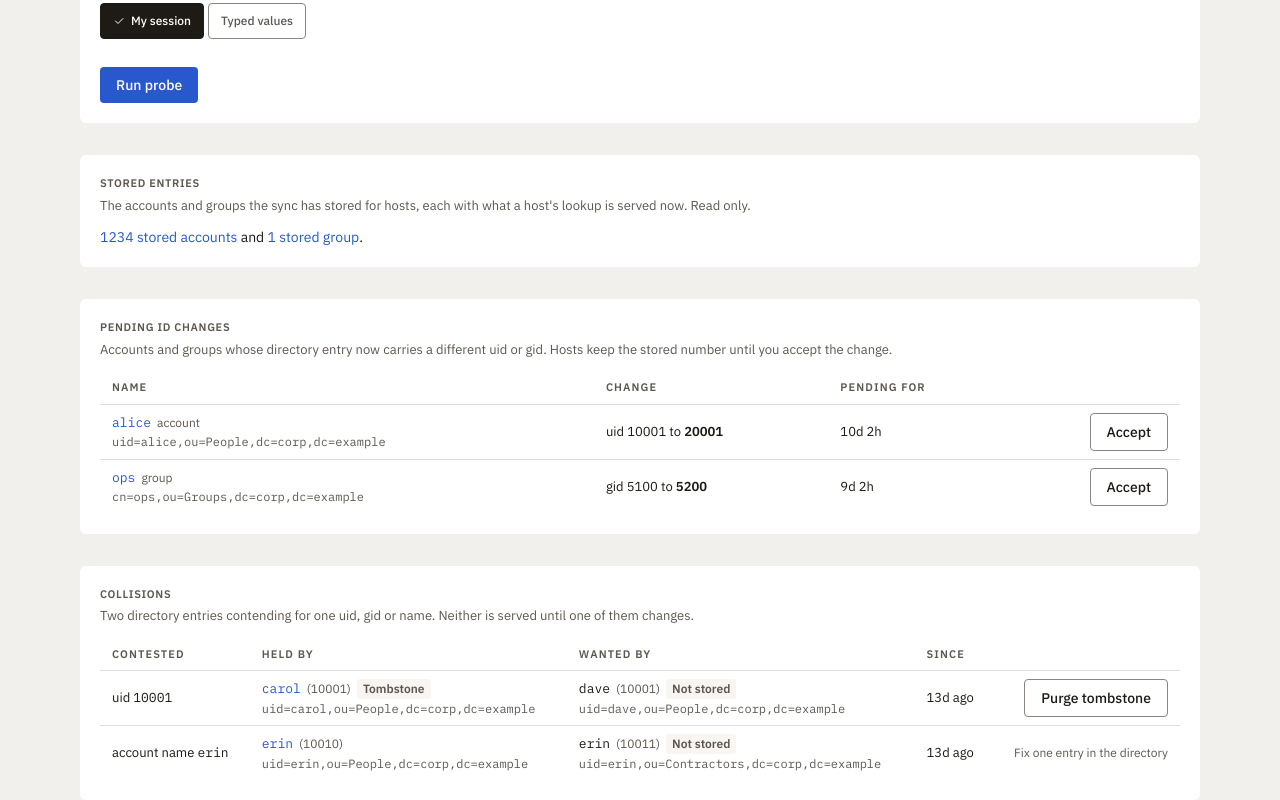
it: Directory page NSS panels › pending id changes › should show a 409 on the row it came from
(page scrolled)
Click the button with test id "nss-pending-accept": (1129, 432) x1=1090 y1=413 x2=1168 y2=451
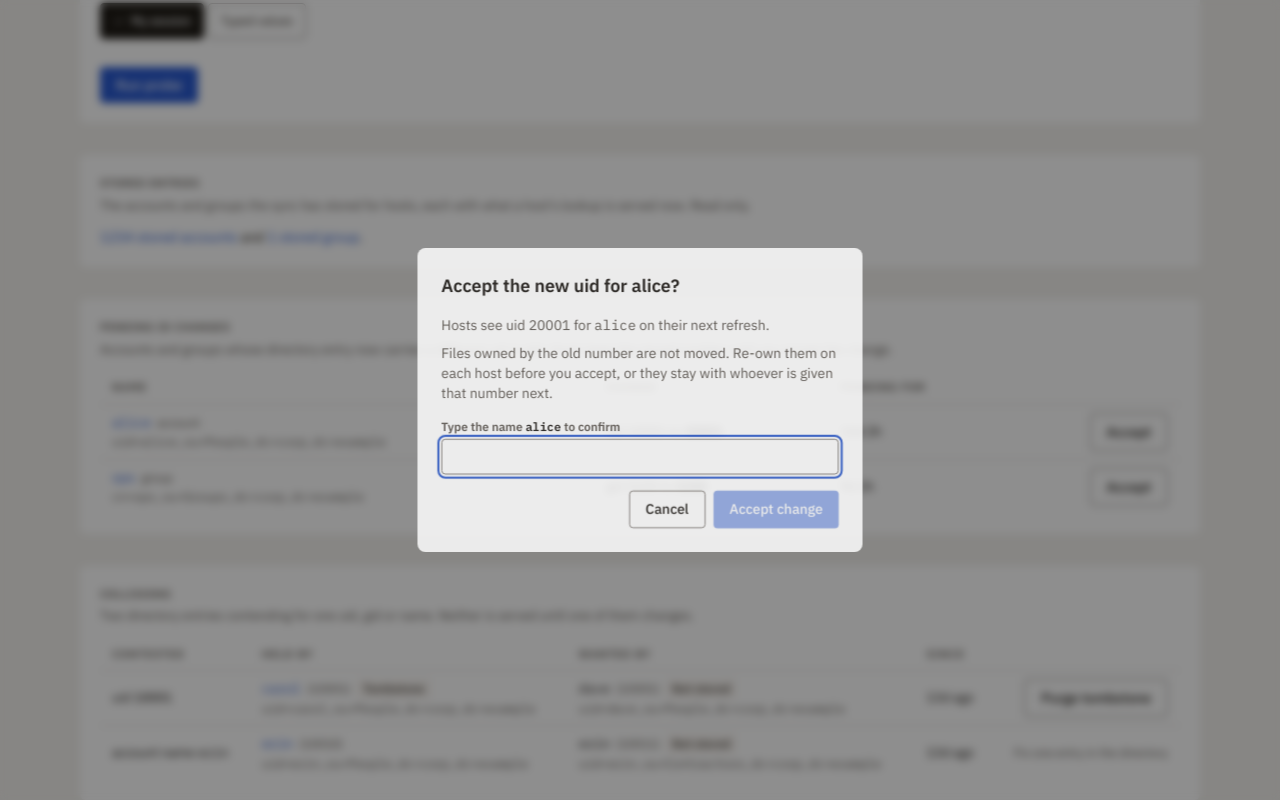
In the field with test id "nss-accept-typed": (640, 457) x1=440 y1=439 x2=840 y2=475, type "alice"
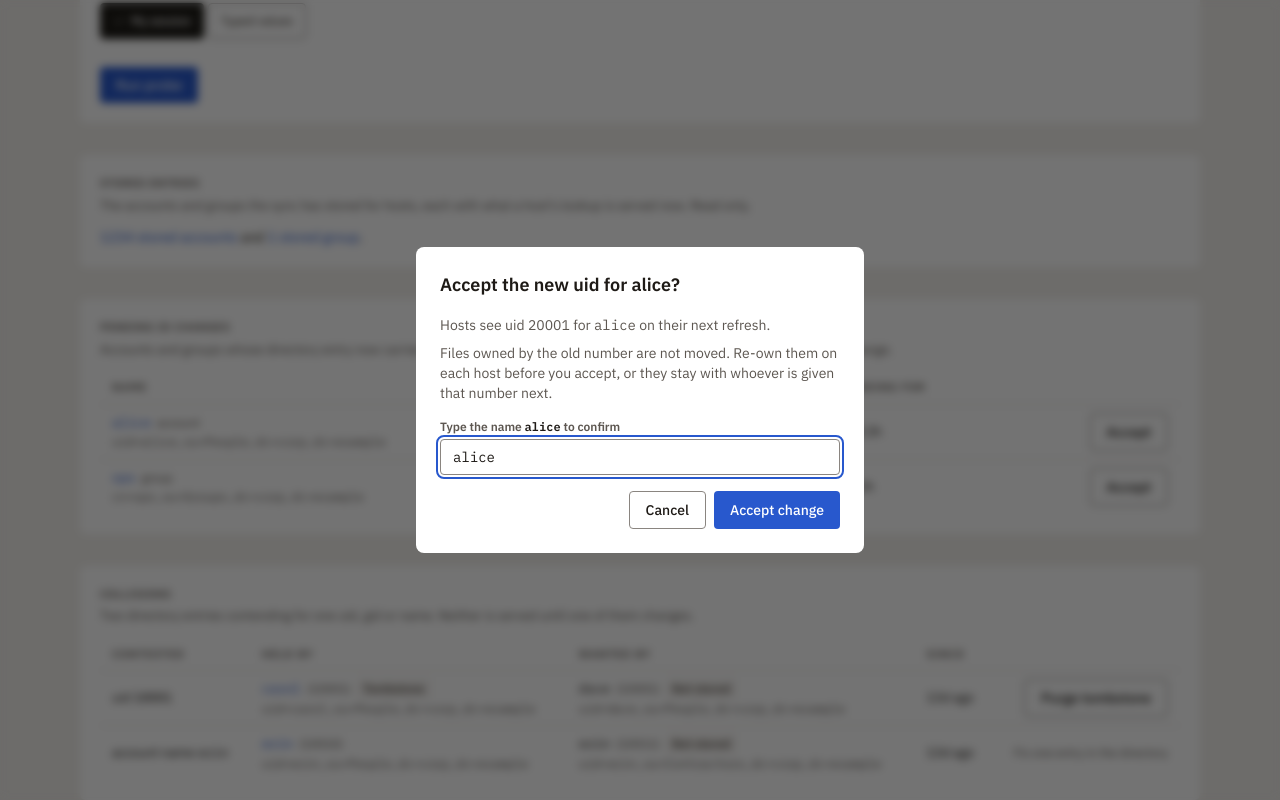
Click the button with test id "nss-accept-confirm": (777, 510) x1=714 y1=491 x2=840 y2=529
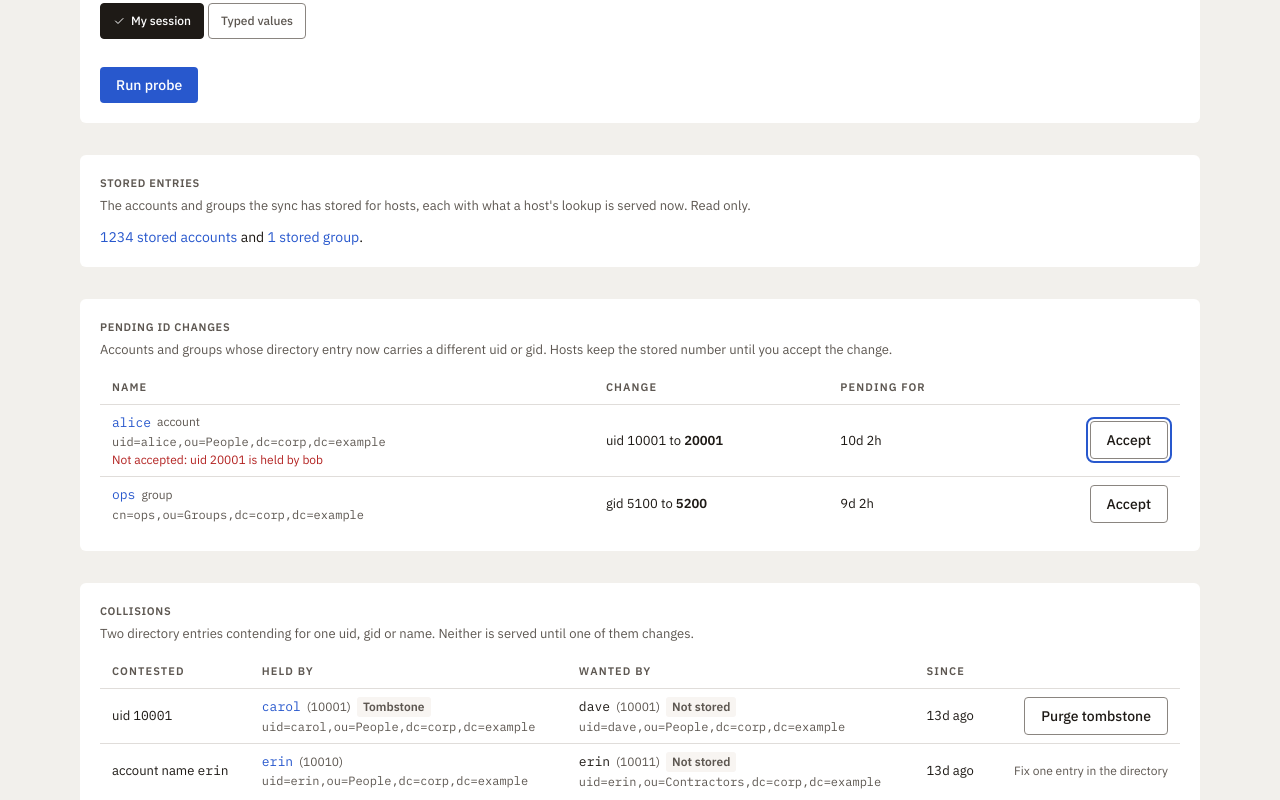
Result: the message with test id "nss-pending-row-error" shows "uid 20001 is held by bob" at x1=112 y1=452 x2=323 y2=467
